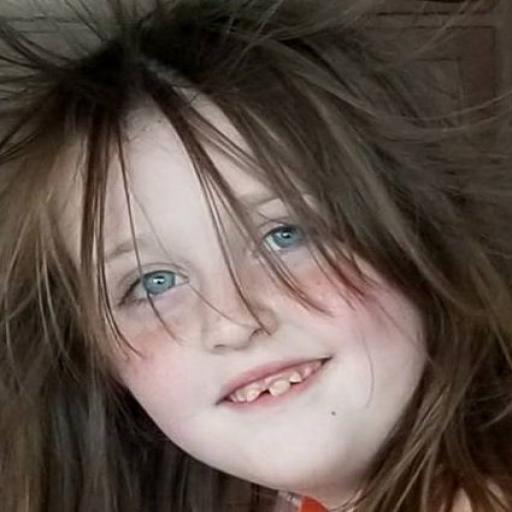Autism: (9, 26, 512, 485)
